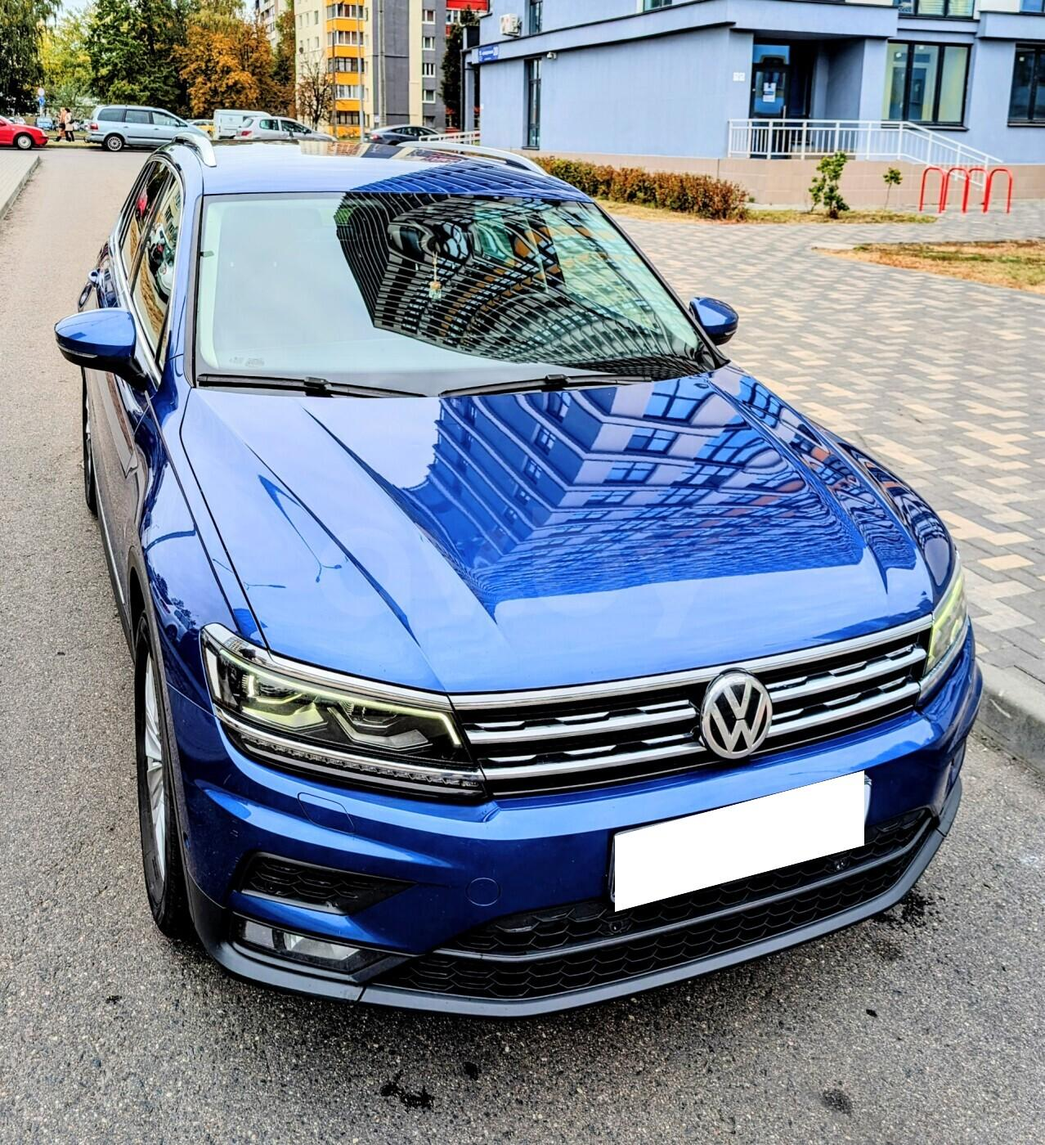Tiguan_2016-2021: (62, 132, 991, 1027)
